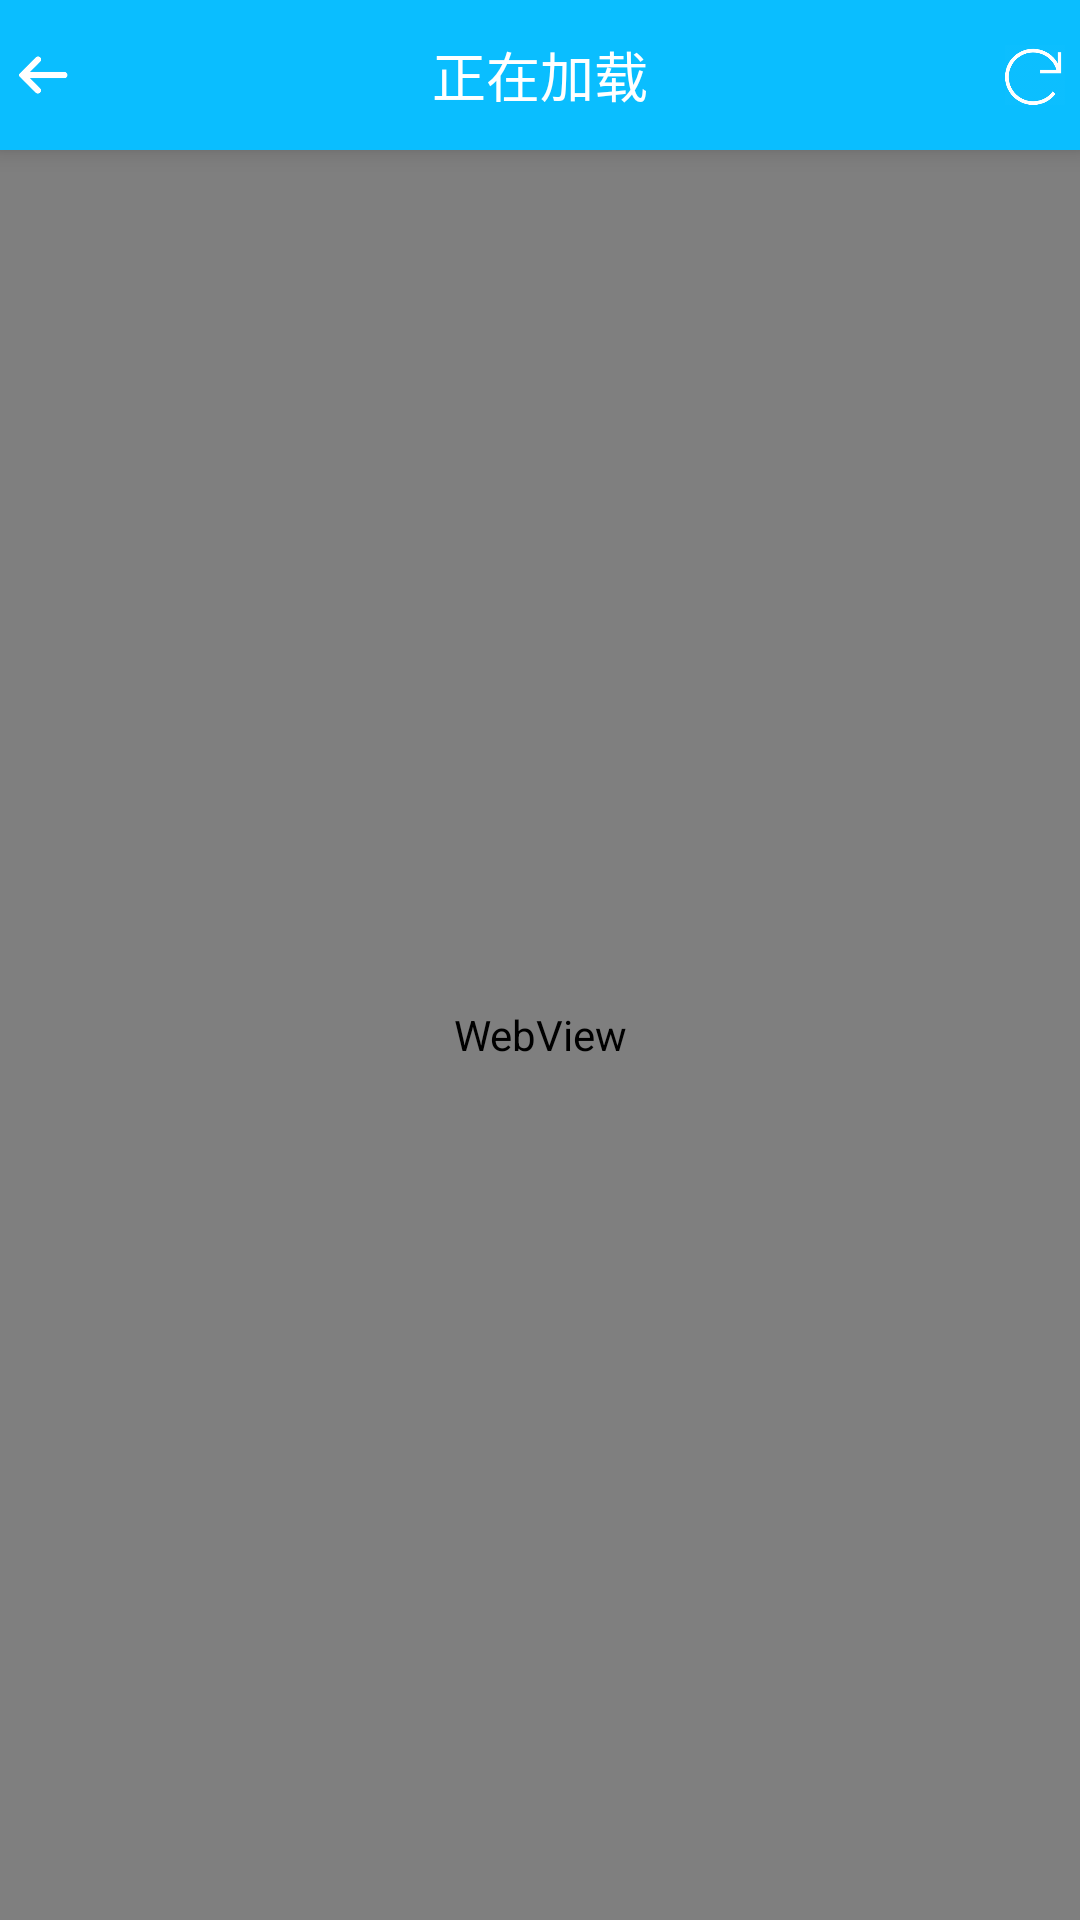

Named icons in this screenshot (1080px×1920px) and their bounding boxes, (x1, y1, x2, y2):
back: (19, 56, 68, 94)
refresh: (1005, 49, 1061, 105)
